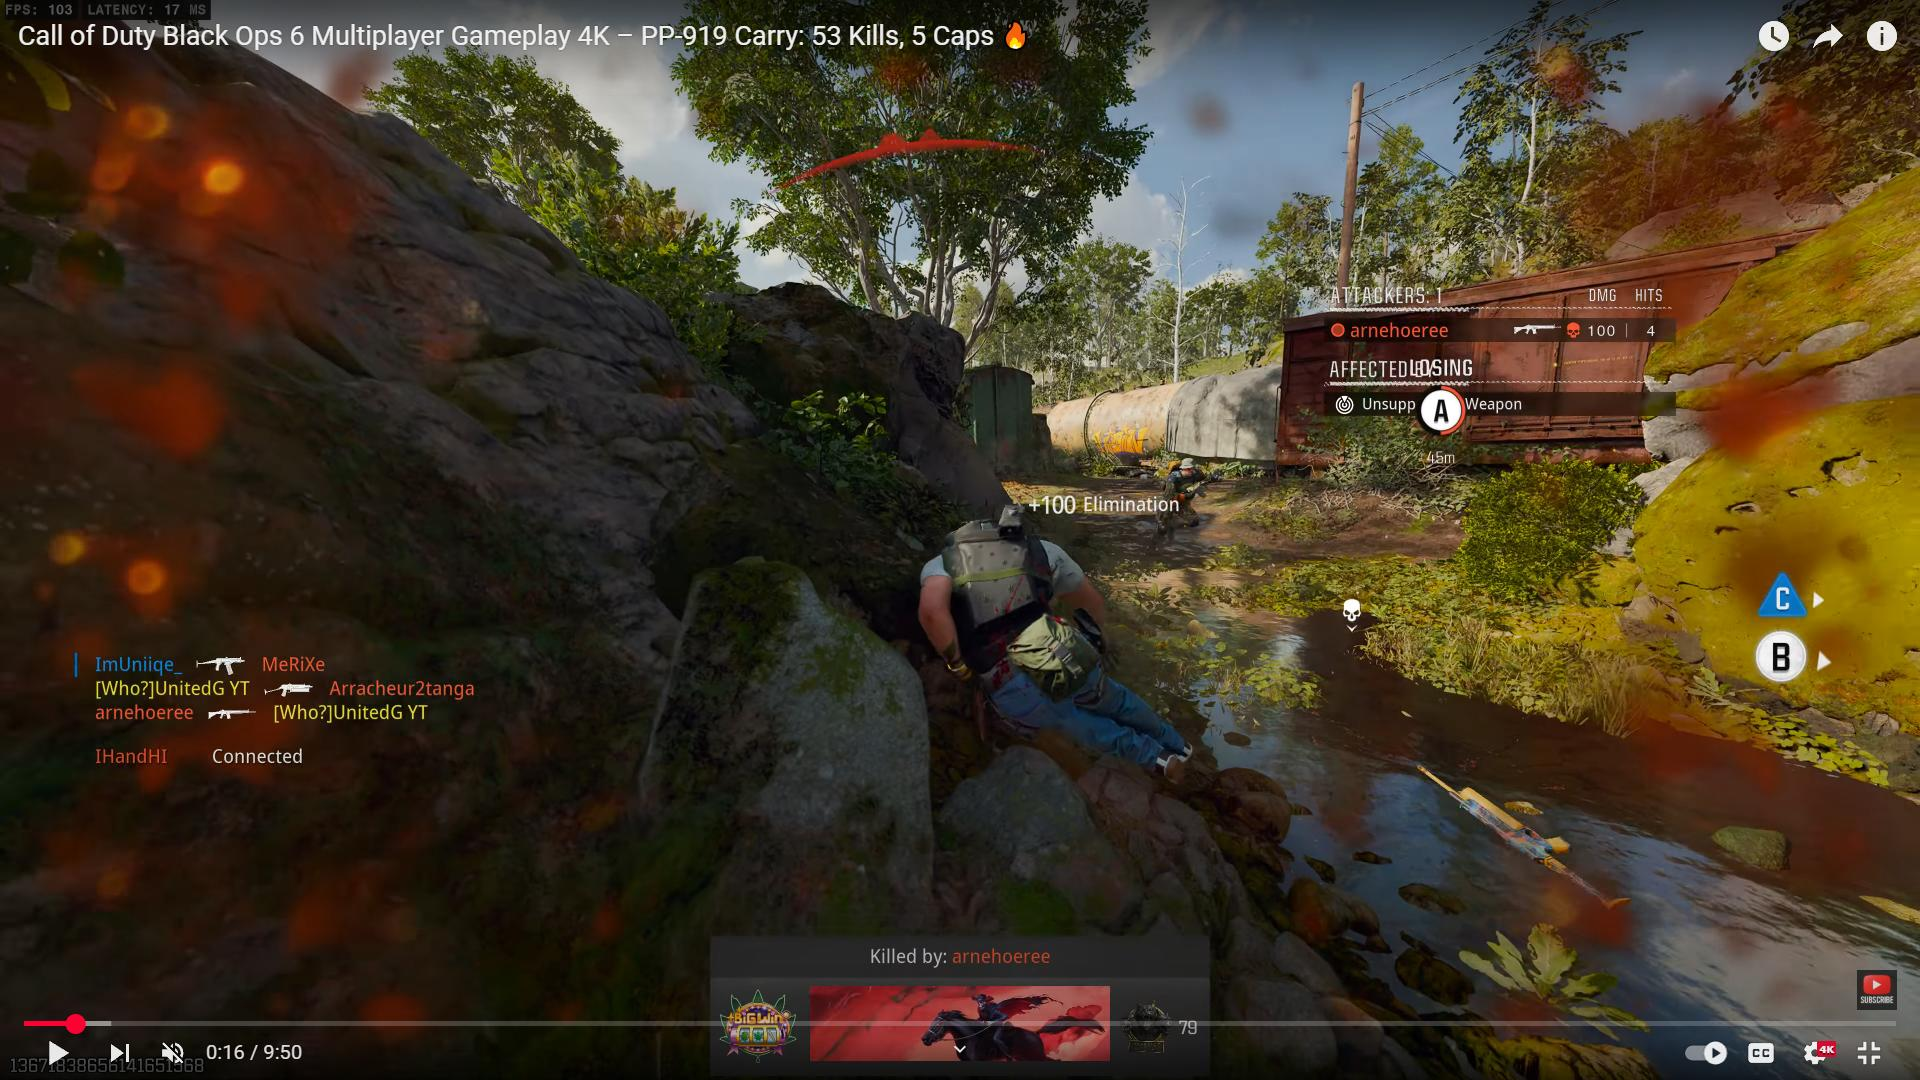Enemy: (1155, 444, 1220, 502)
